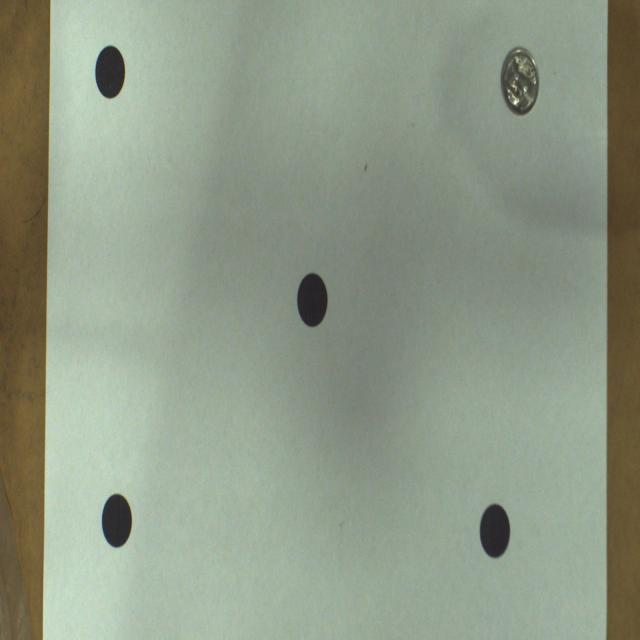space: (101, 493, 132, 549), (480, 504, 510, 558), (298, 273, 328, 327), (95, 47, 125, 98)
tail5bath: (501, 49, 539, 116)
